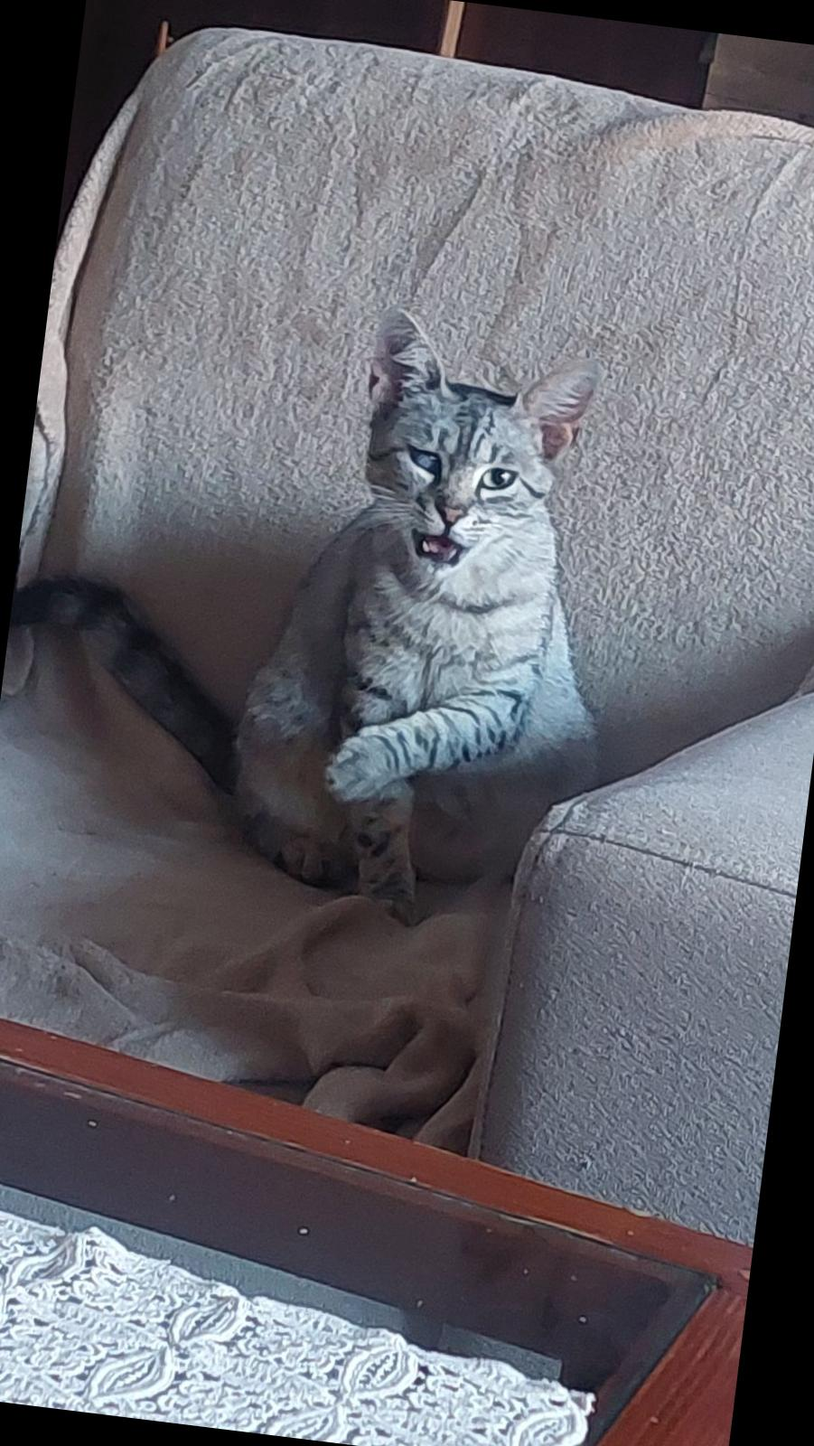macka: (0, 267, 656, 967)
